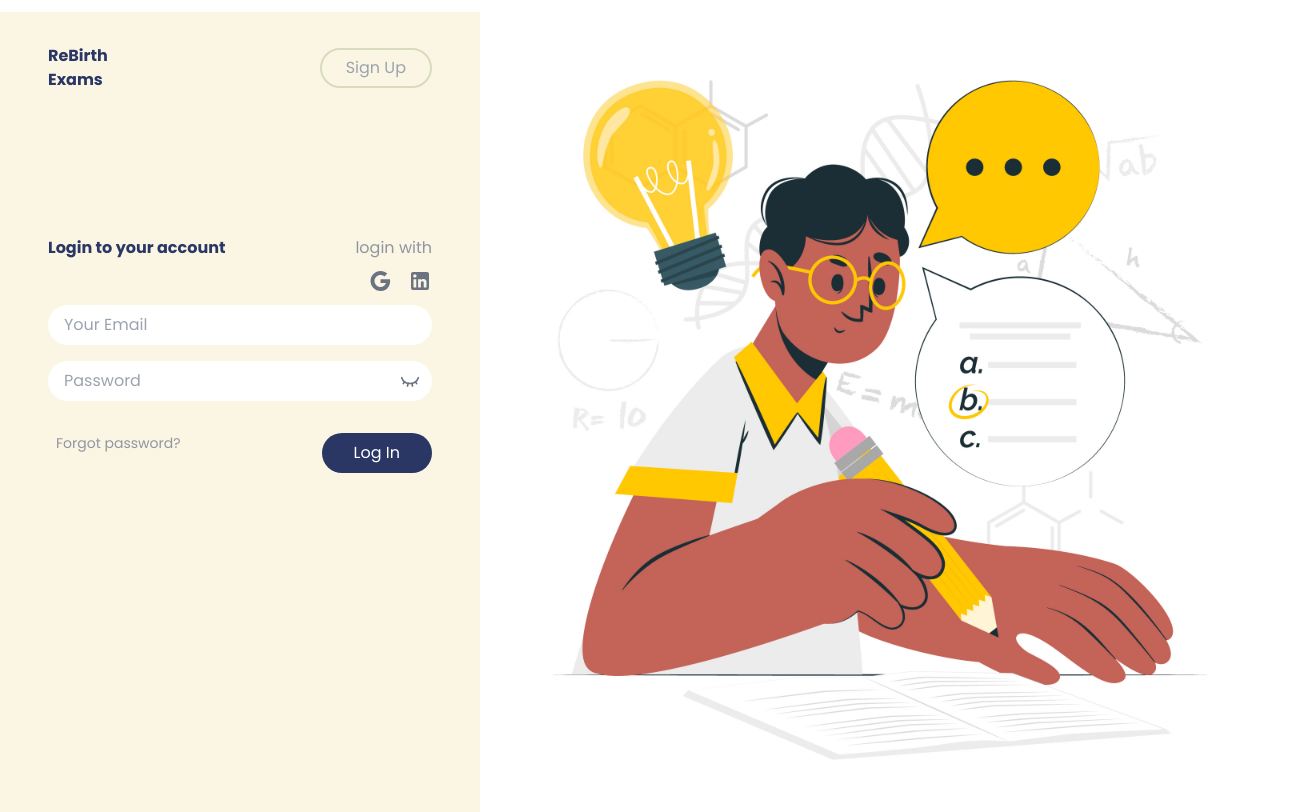
Test: Signup › renders default Username, UserEmail & Password Input Fields
Click the button "Sign Up" at (376, 68), box [320,48,432,88]
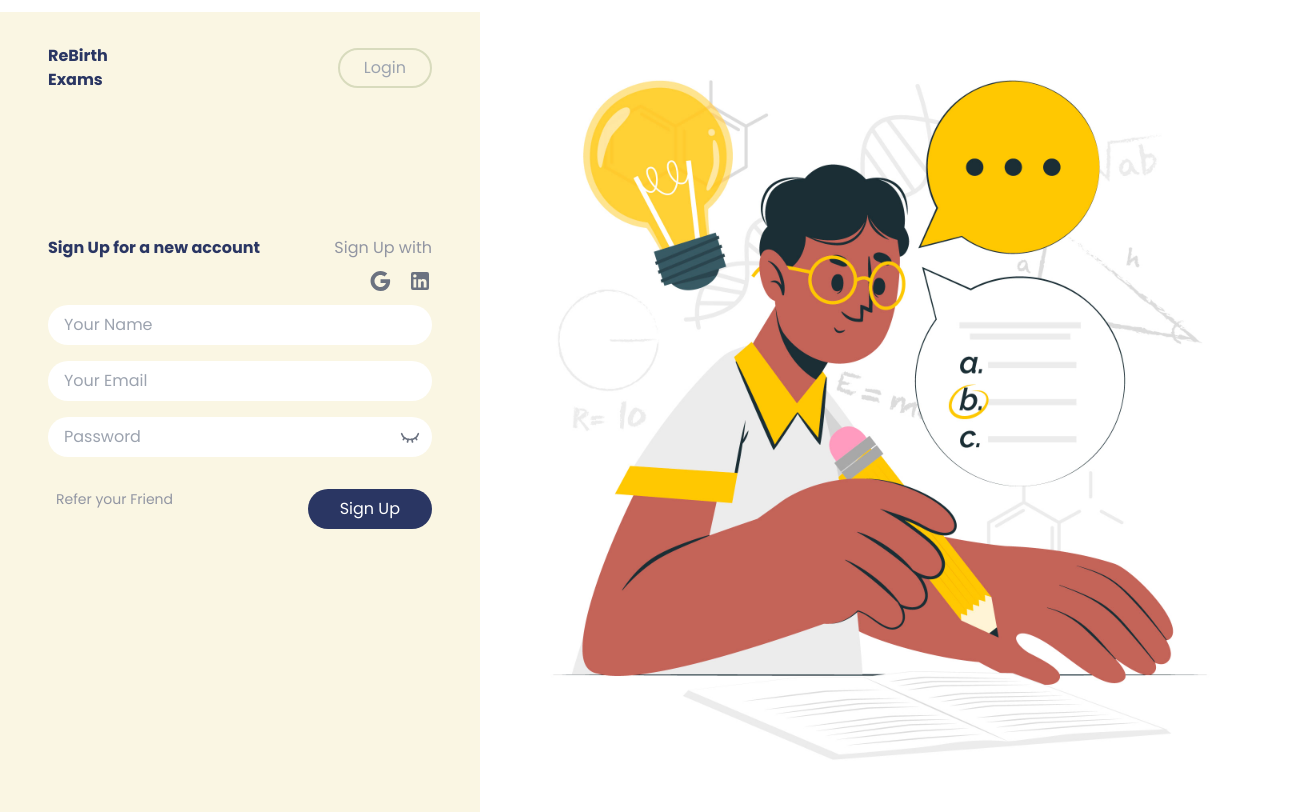
Check: the field with placeholder "Your Email" is shown, box [48,361,432,401]
Check: the field with placeholder "Your Name" is shown, box [48,305,432,345]
